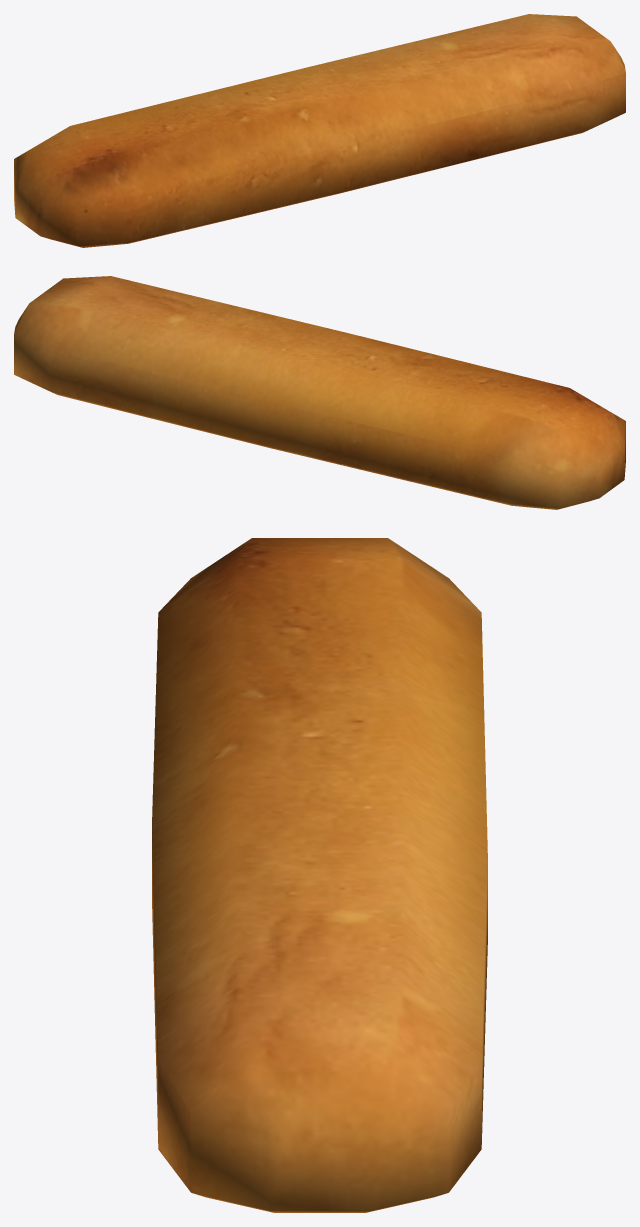
Rendered from BreadBig.glb.
3 renders of one model, top to bottom at view 1: azimuth 30°, elevation 25°; view 2: azimuth 150°, elevation 25°; view 3: azimuth 270°, elevation 25°, orthographic. The views are drawn at different scales.
Visible parts, largest first — view 1: Bread; view 2: Bread; view 3: Bread.
Part boxes in pixels (left/top/right/bottom): Bread: left=14, top=14, right=625, bottom=247; Bread: left=14, top=276, right=625, bottom=509; Bread: left=152, top=538, right=487, bottom=1212.
Bounding box in the file's own units: 0.6012 × 0.0762 × 0.1496.
Materials: 1 (1 with a texture image).
